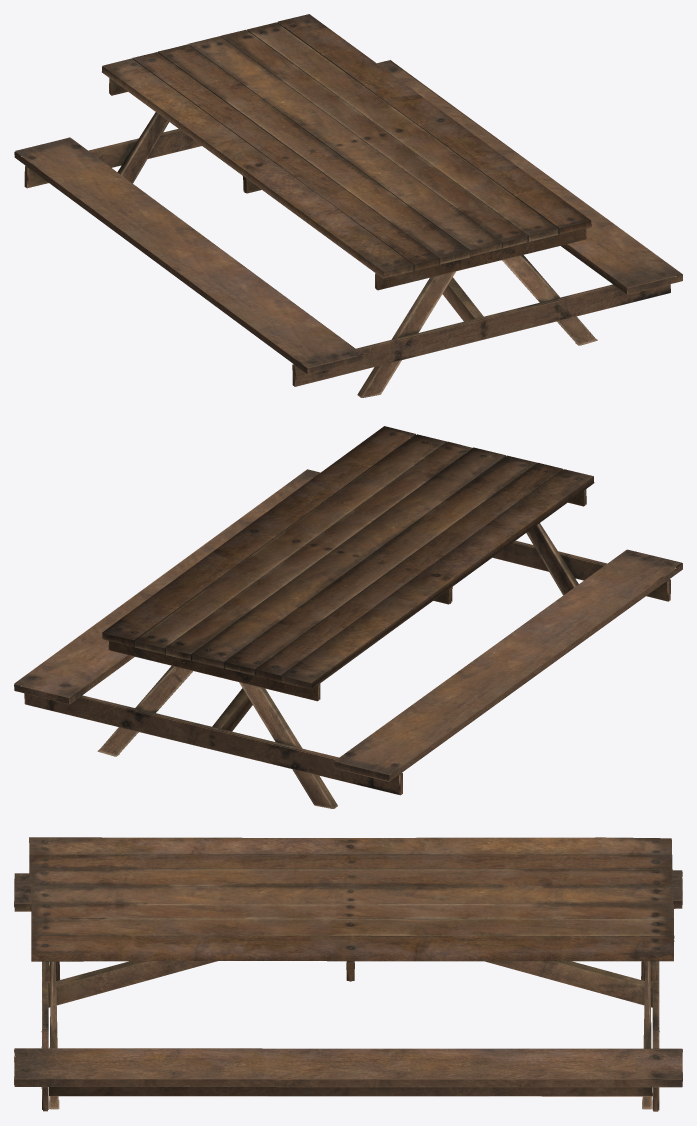
Rendered from picnic.glb.
The picture shows the model from 3 angles, top to bottom: view 1: azimuth 30°, elevation 25°; view 2: azimuth 150°, elevation 25°; view 3: azimuth 270°, elevation 25°; orthographic projection. The views are drawn at different scales.
Parts seen in each view (by area): view 1: wooden_picnic_table; view 2: wooden_picnic_table; view 3: wooden_picnic_table.
Part boxes in pixels (x1,y1,x2,y2): wooden_picnic_table: [14, 14, 682, 397]; wooden_picnic_table: [14, 426, 682, 808]; wooden_picnic_table: [14, 837, 682, 1111].
Size of the model in its own units: 2.24 by 0.7481 by 3.02.
2 materials, 2 textured.
